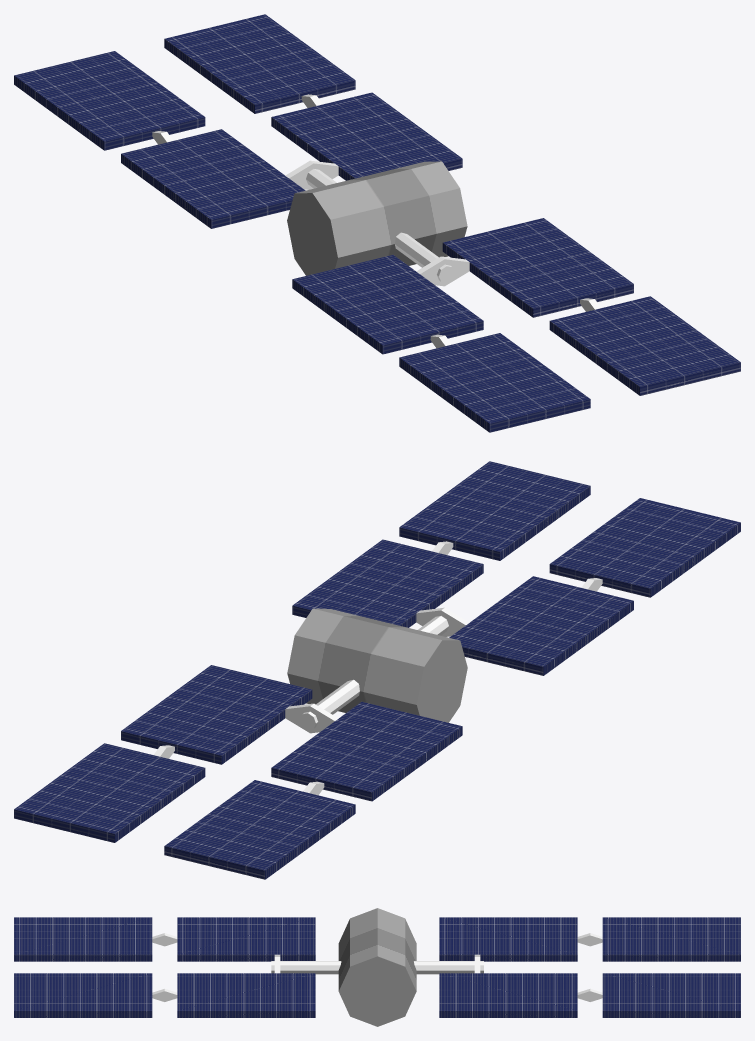
3 views of the same model, one above another, from view 1: azimuth 30°, elevation 25°; view 2: azimuth 150°, elevation 25°; view 3: azimuth 270°, elevation 25° (orthographic). The views are drawn at different scales.
Parts seen in each view (by area): view 1: satelite_0; view 2: satelite_0; view 3: satelite_0.
Part boxes in pixels (x1,y1,x2,y2): satelite_0: (14, 14, 740, 432); satelite_0: (14, 461, 740, 879); satelite_0: (14, 908, 740, 1026).
Size of the model in its own units: 8.34 by 2.93 by 27.34.
1 material, 1 textured.
